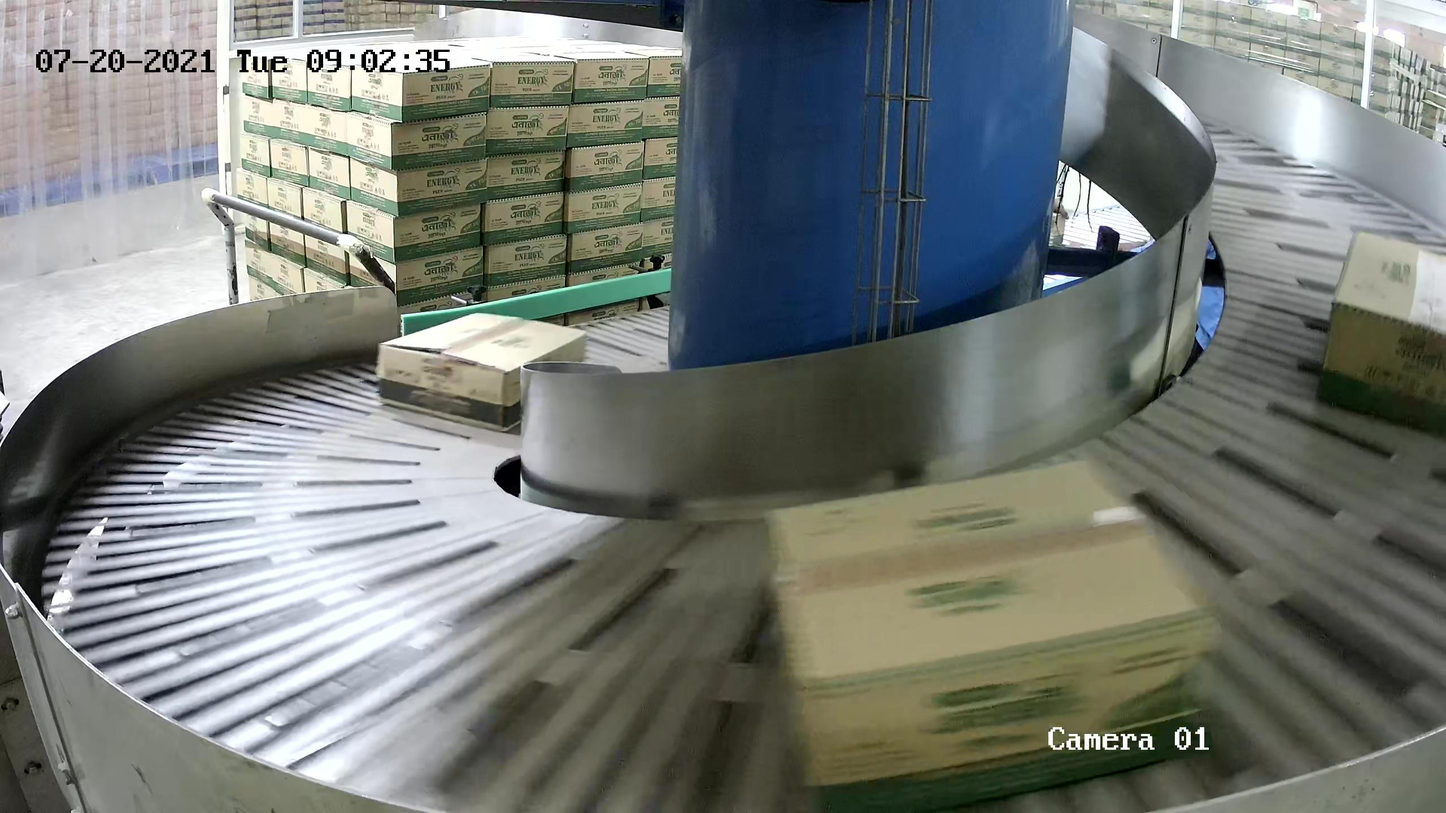Box: (765, 454, 1219, 813), (1317, 229, 1446, 435), (375, 310, 589, 433)
